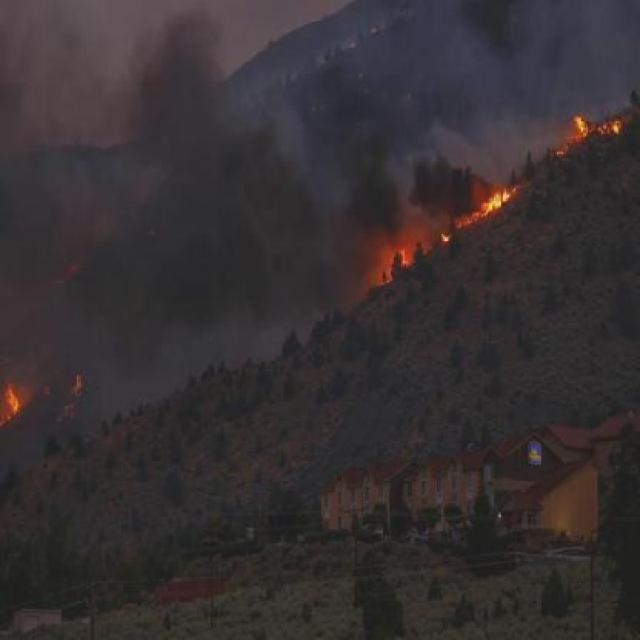Fire: (461, 183, 517, 226), (0, 385, 18, 423), (597, 120, 623, 134), (574, 118, 588, 140), (554, 139, 570, 158), (71, 375, 80, 397), (399, 248, 408, 267), (438, 234, 451, 242)
